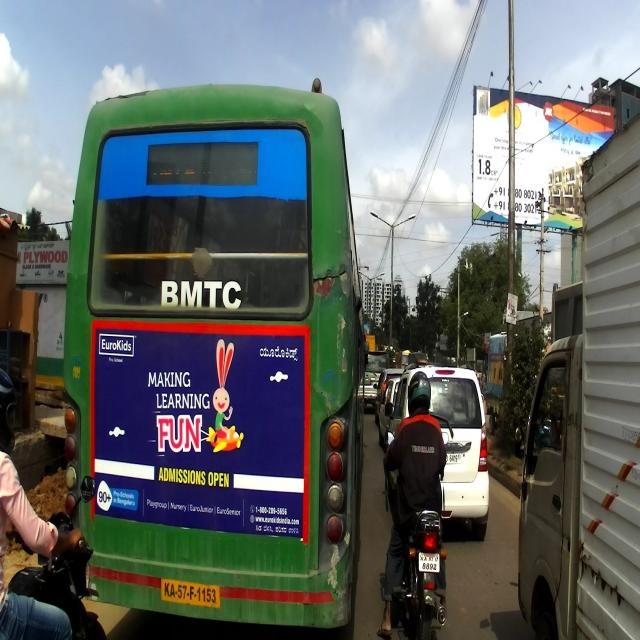Car_Maruti-Suzuki: (386, 364, 490, 543)
bus: (66, 72, 369, 634)
motorcycle_Hero: (380, 429, 450, 639)
truck: (515, 114, 639, 638)
